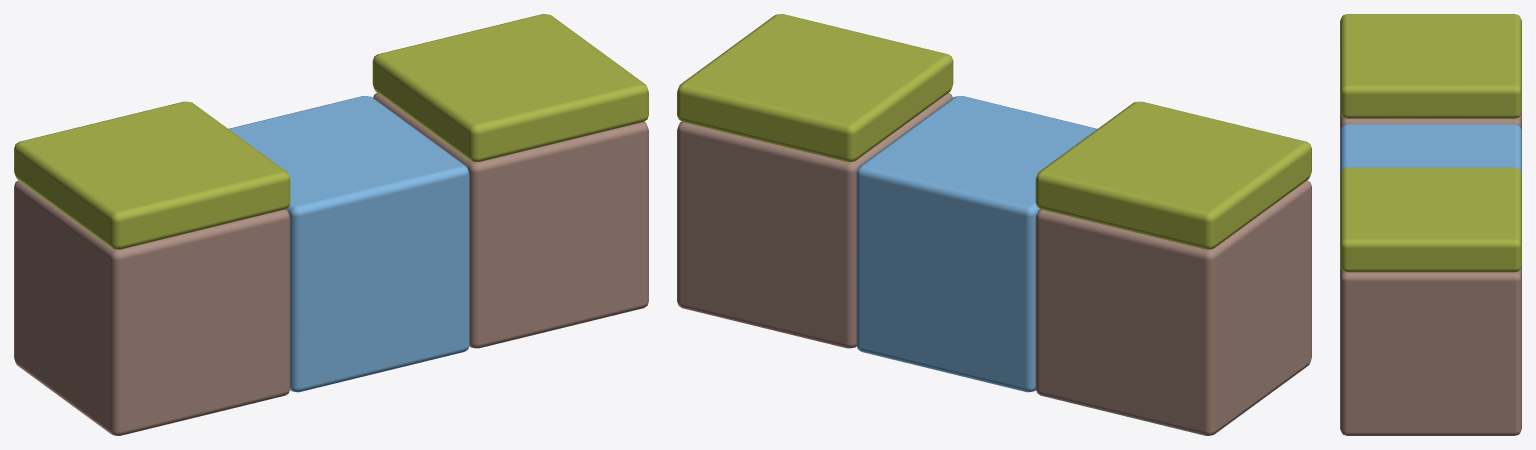
File: cube_with_river.07.glb
3 renders of one model, left to right at view 1: azimuth 30°, elevation 25°; view 2: azimuth 150°, elevation 25°; view 3: azimuth 270°, elevation 25°, orthographic. The views are drawn at different scales.
Parts seen in each view (by area): view 1: Cube.253; view 2: Cube.253; view 3: Cube.253.
Part boxes in pixels (<box>): Cube.253: <box>14,14,648,435</box>; Cube.253: <box>677,14,1311,435</box>; Cube.253: <box>1340,14,1521,435</box>.
Size of the model in its own units: 3 by 1.2 by 1.
Materials: 1 (1 with a texture image).
